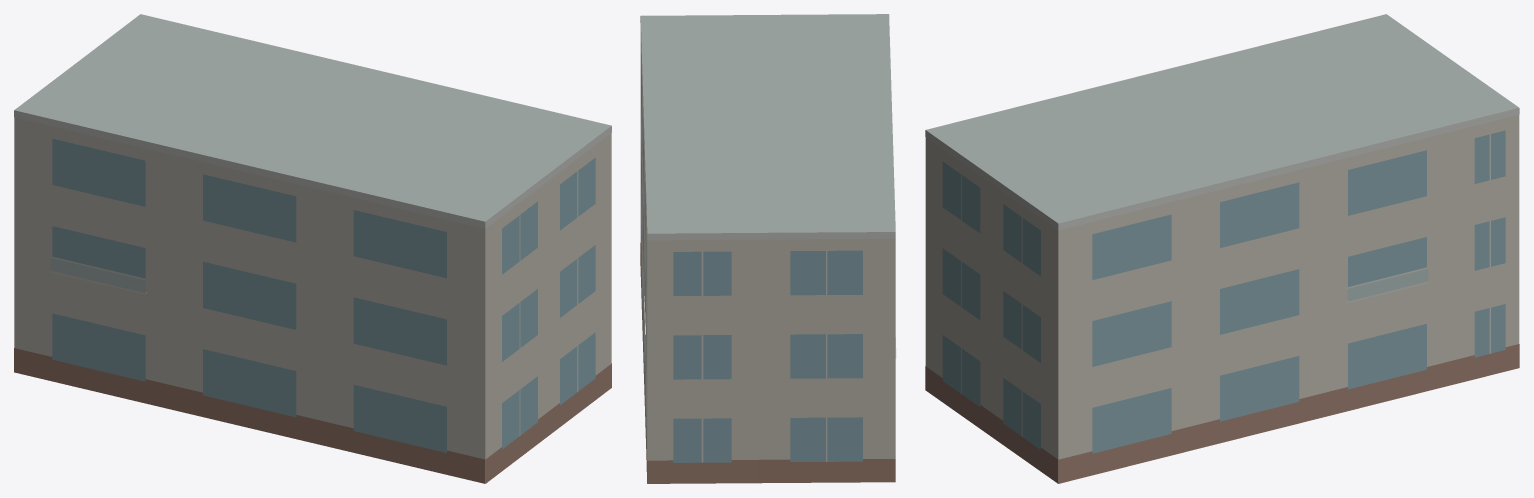
Rendered from survey-upis-32705851.glb.
The picture shows the model from 3 angles, left to right: view 1: azimuth 30°, elevation 25°; view 2: azimuth 150°, elevation 25°; view 3: azimuth 270°, elevation 25°; orthographic projection. The views are drawn at different scales.
Parts seen in each view (by area): view 1: survey-upis-32705851.tmp; view 2: survey-upis-32705851.tmp; view 3: survey-upis-32705851.tmp.
Boxes of the visible parts, x1=… form: survey-upis-32705851.tmp: x1=14, y1=14, x2=611, y2=483; survey-upis-32705851.tmp: x1=640, y1=14, x2=896, y2=483; survey-upis-32705851.tmp: x1=925, y1=14, x2=1519, y2=483.
Bounding box in the file's own units: 15.81 × 9.15 × 18.93.
